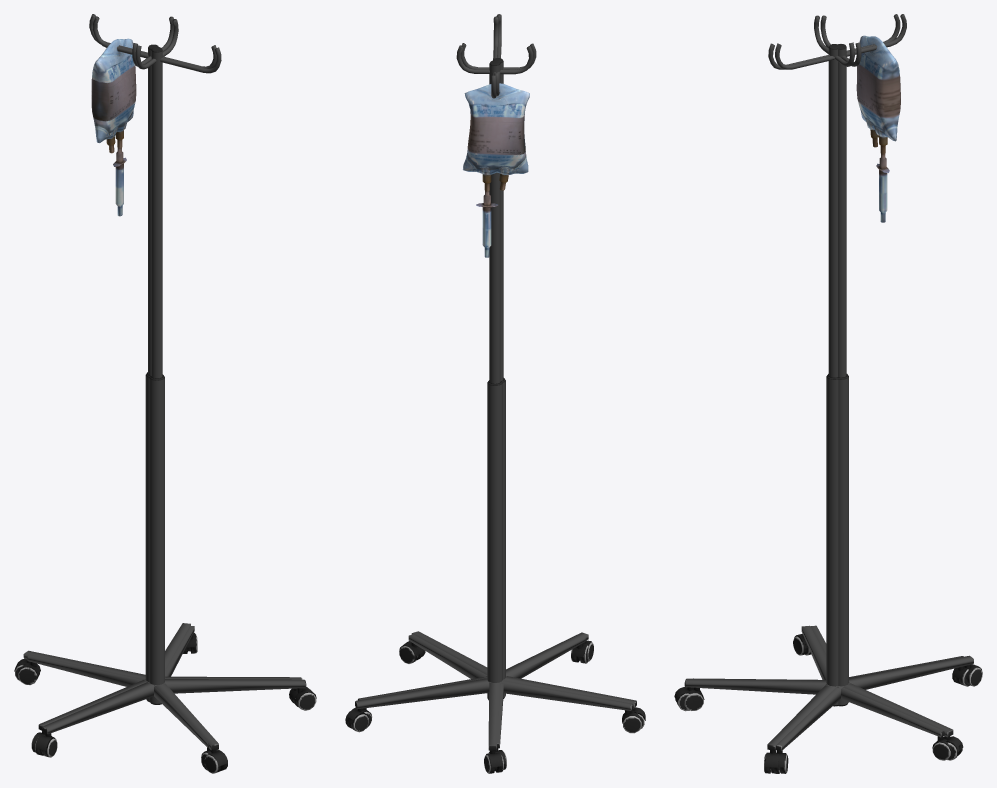
The model's file is infusion.fbx.
3 renders of one model, left to right at view 1: azimuth 30°, elevation 25°; view 2: azimuth 150°, elevation 25°; view 3: azimuth 270°, elevation 25°, orthographic. The views are drawn at different scales.
Parts seen in each view (by area): view 1: Mesh, Mesh_ncl1_1; view 2: Mesh_ncl1_1, Mesh; view 3: Mesh, Mesh_ncl1_1.
Part boxes in pixels (left/top/right/bottom): Mesh: left=17, top=16, right=316, bottom=773; Mesh_ncl1_1: left=14, top=14, right=303, bottom=770; Mesh_ncl1_1: left=345, top=16, right=642, bottom=773; Mesh: left=352, top=14, right=645, bottom=770; Mesh: left=674, top=14, right=969, bottom=773; Mesh_ncl1_1: left=684, top=14, right=982, bottom=773.
Bounding box in the file's own units: 68.04 × 168 × 68.55.
